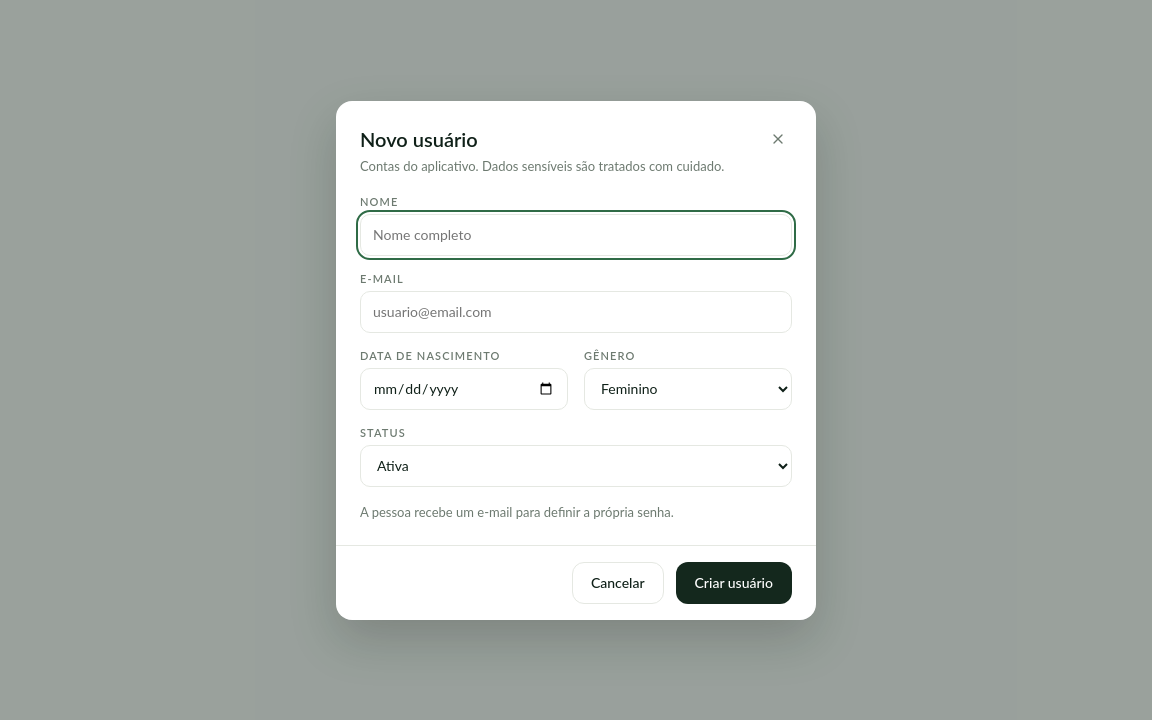
Test case: UserFormModal › validates required fields before creating
This screenshot has width=1152, height=720.
Expected: the dialog "Novo usuário" is shown, left=336, top=100, right=816, bottom=620
Click the button "Criar usuário": (734, 582) left=676, top=562, right=792, bottom=604
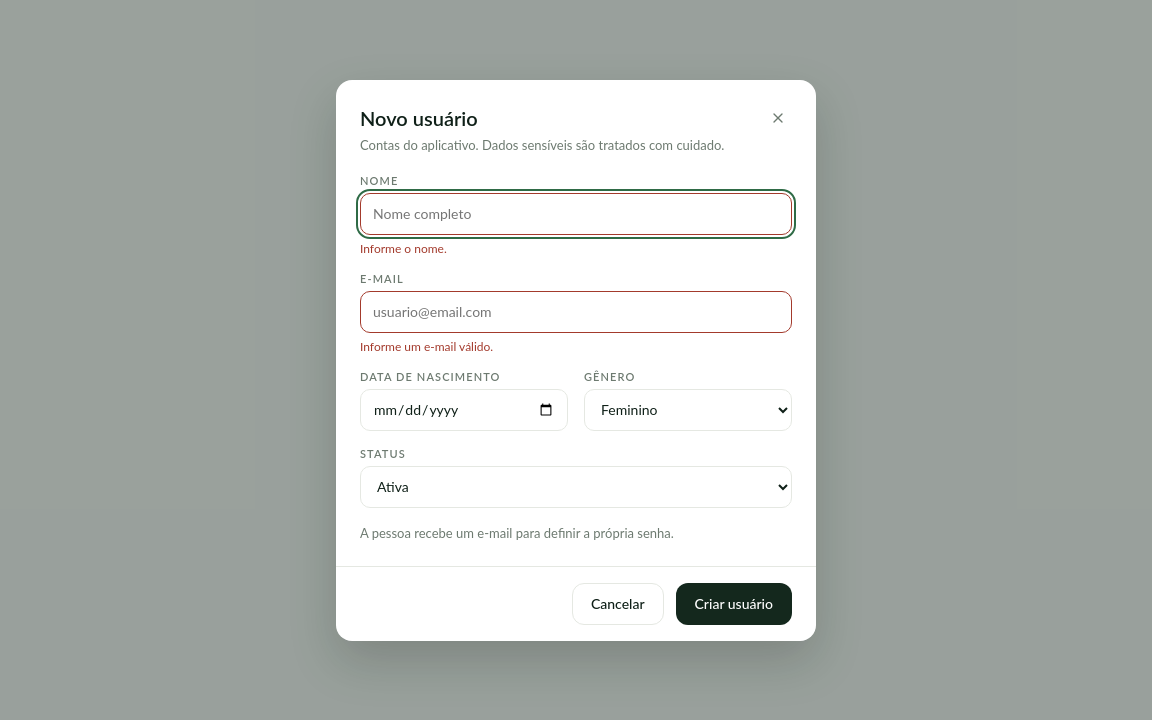
Result: the text "Informe o nome." is shown at left=360, top=240, right=447, bottom=256
Result: the text "Informe um e-mail válido." is shown at left=360, top=338, right=493, bottom=354
